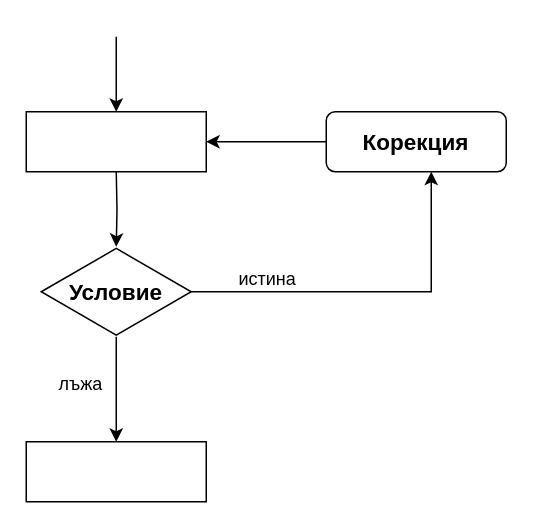
This 533x528 diagram has some shape labels left out. The box of each missing label's shape, as (x1, y1, x2, y2) in pixels:
Следващ оператор: (25, 440, 206, 502)
Тяло: (25, 110, 206, 172)
